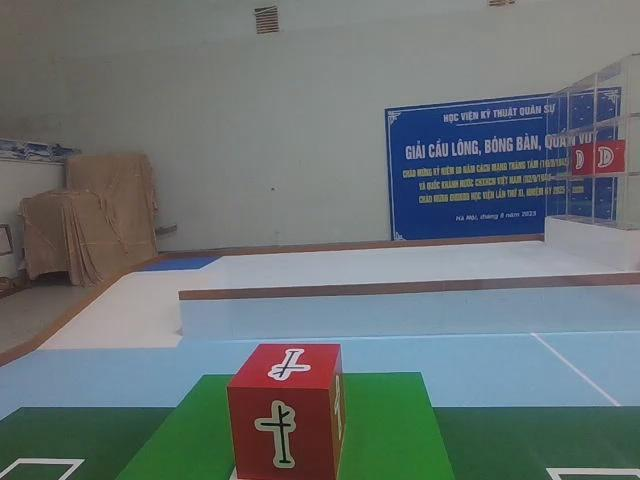R2 Real: (223, 337, 345, 480)
